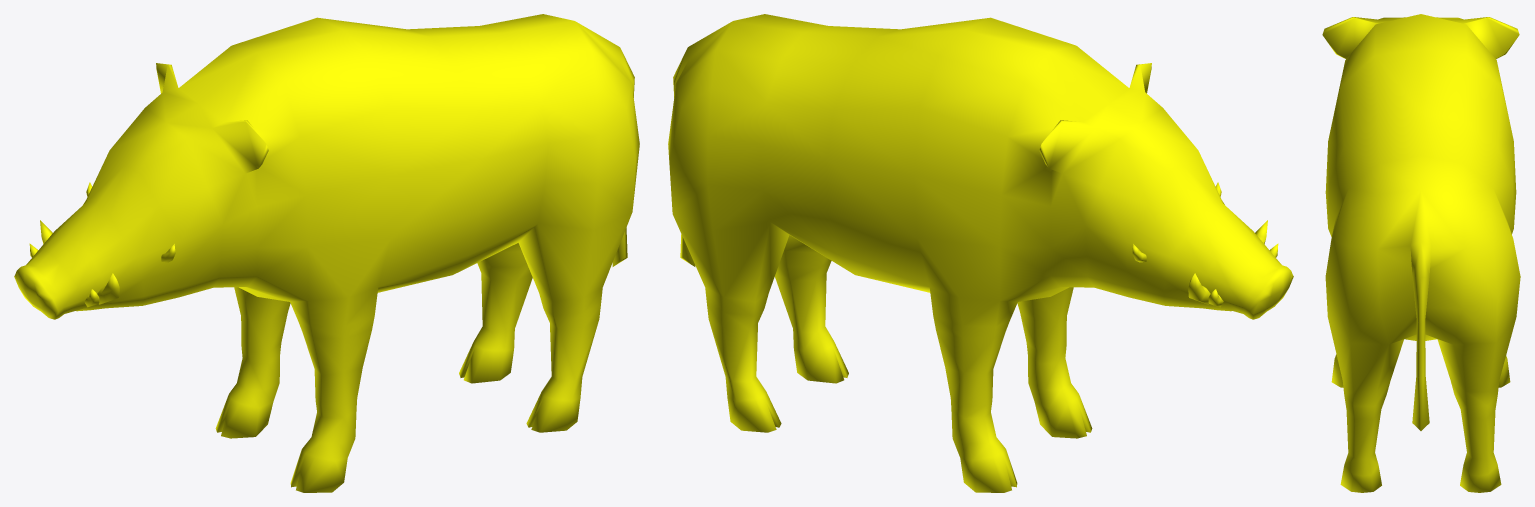
Rendered from boar.glb.
3 views of the same model, side by side, from view 1: azimuth 30°, elevation 25°; view 2: azimuth 150°, elevation 25°; view 3: azimuth 270°, elevation 25° (orthographic). The views are drawn at different scales.
Parts seen in each view (by area): view 1: boar; view 2: boar; view 3: boar.
Part boxes in pixels (x1,y1,x2,y2): boar: [14, 14, 639, 492]; boar: [668, 14, 1293, 492]; boar: [1322, 14, 1520, 492].
Size of the model in its own units: 0.1684 by 0.1085 by 0.054.
1 material, 1 textured.
